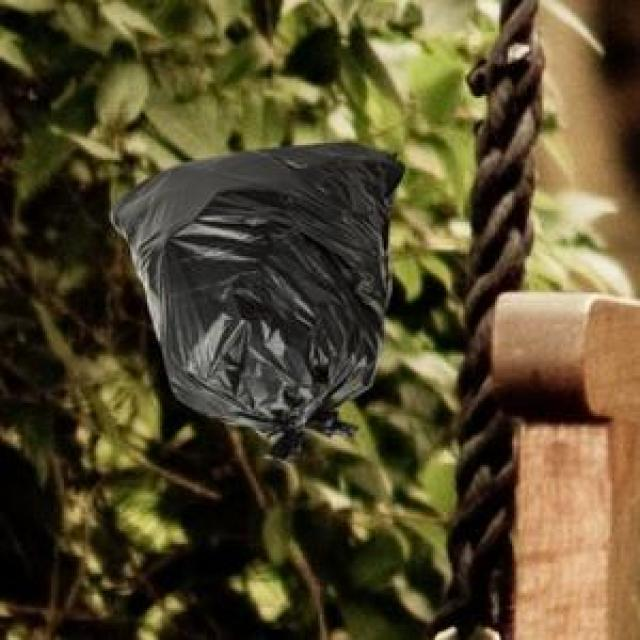miscellaneous trash: (107, 139, 401, 463)
